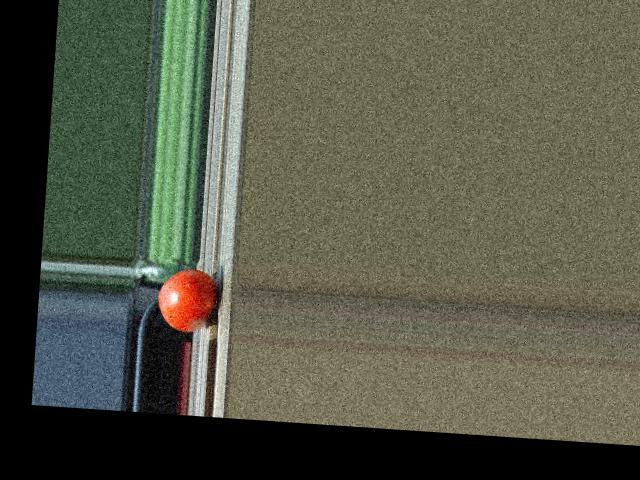tomato: (156, 266, 217, 333)
